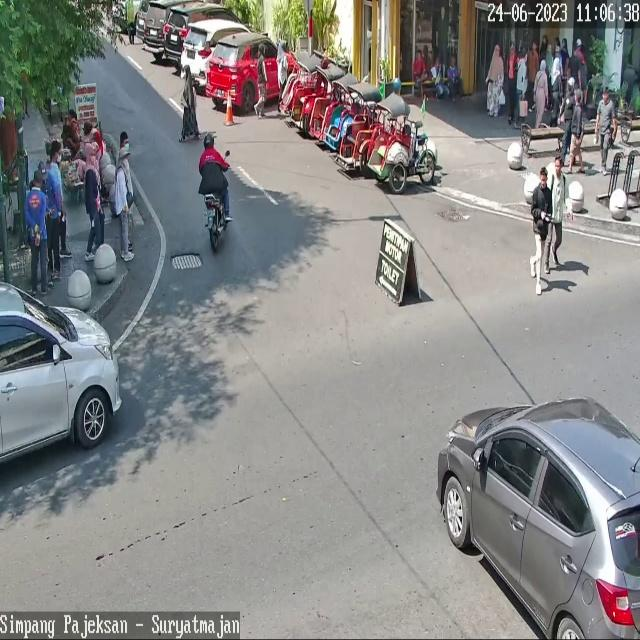bus: (204, 192, 227, 247)
motorcycle: (438, 397, 640, 640), (0, 281, 121, 462), (206, 33, 300, 112), (163, 4, 246, 64), (181, 21, 252, 87), (143, 0, 169, 53)
